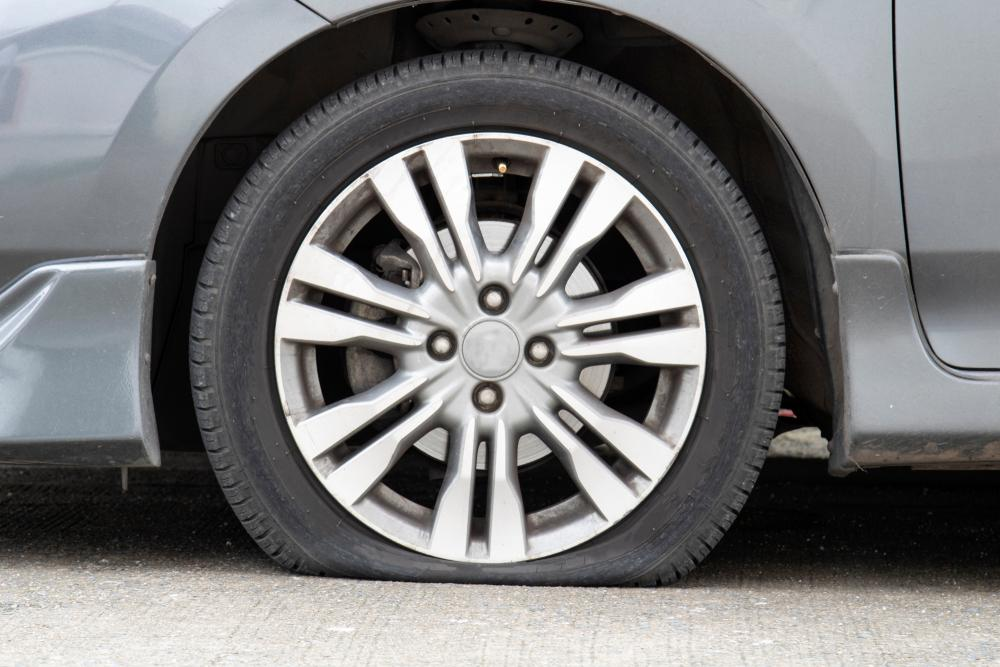tire flat: (198, 49, 780, 588)
